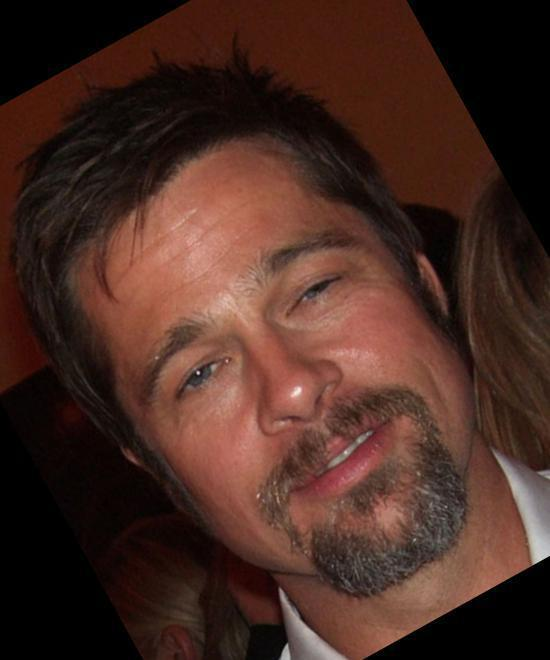Drunk: (78, 169, 461, 545)
